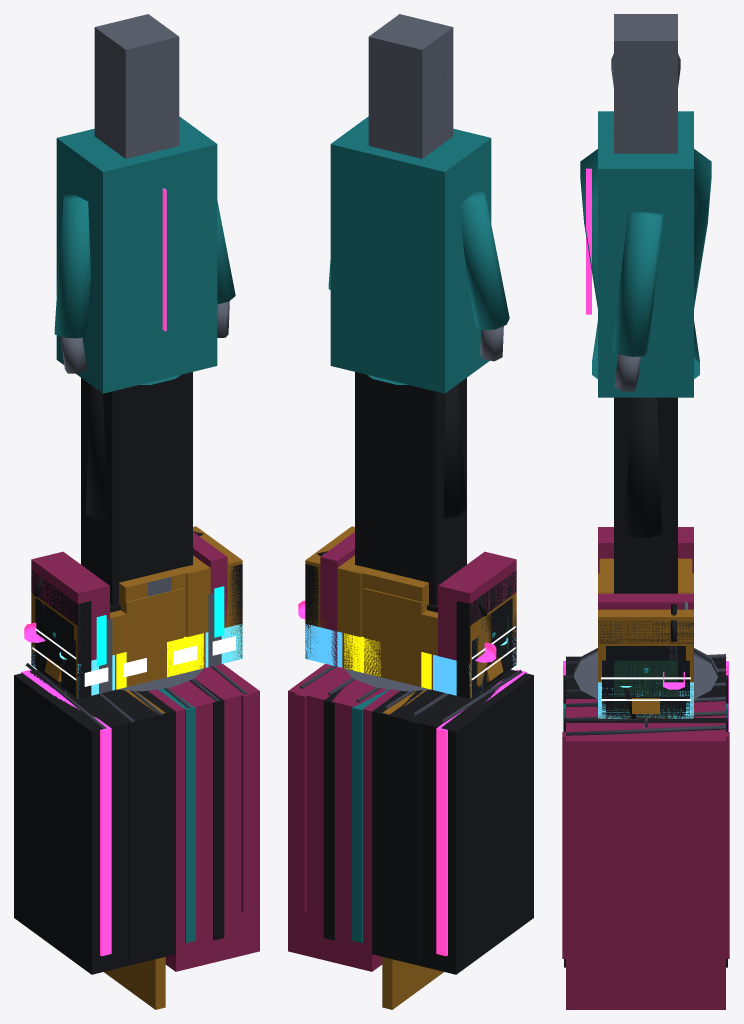
The model's file is room-detail-galeria-props.glb.
3 views of the same model, side by side, from view 1: azimuth 30°, elevation 25°; view 2: azimuth 150°, elevation 25°; view 3: azimuth 270°, elevation 25° (orthographic). The views are drawn at different scales.
Parts seen in each view (by area): view 1: rd-gl-mannequin-lod, rd-gl-garments-lod, rd-gl-garments, rd-gl-mannequin, rd-gl-stock-lod, rd-gl-tattoo, rd-gl-tattoo-lod, rd-gl-stock-b, rd-gl-tattoo-b, rd-gl-repair, rd-gl-vr-b, rd-gl-stock (+1 smaller); view 2: rd-gl-mannequin-lod, rd-gl-garments-lod, rd-gl-garments, rd-gl-mannequin, rd-gl-stock-lod, rd-gl-tattoo-lod, rd-gl-tattoo, rd-gl-tattoo-b, rd-gl-stock-b, rd-gl-repair, rd-gl-repair-b, rd-gl-stock (+1 smaller); view 3: rd-gl-garments-lod, rd-gl-mannequin-lod, rd-gl-mannequin, rd-gl-garments, rd-gl-stock-lod, rd-gl-stock-b, rd-gl-tattoo-b, rd-gl-arms, rd-gl-vr, rd-gl-stock, rd-gl-implants-b, rd-gl-tattoo (+4 smaller).
Part boxes in pixels (<box>): rd-gl-mannequin-lod: <box>56,14,217,605</box>; rd-gl-garments-lod: <box>14,663,259,974</box>; rd-gl-garments: <box>21,663,253,1009</box>; rd-gl-mannequin: <box>54,71,235,691</box>; rd-gl-stock-lod: <box>119,526,242,686</box>; rd-gl-tattoo: <box>31,551,109,698</box>; rd-gl-tattoo-lod: <box>31,551,109,687</box>; rd-gl-stock-b: <box>31,566,192,698</box>; rd-gl-tattoo-b: <box>193,532,242,659</box>; rd-gl-repair: <box>167,623,242,677</box>; rd-gl-vr-b: <box>35,598,73,695</box>; rd-gl-stock: <box>32,569,221,697</box>; rd-gl-mannequin-lod: <box>330,14,491,605</box>; rd-gl-garments-lod: <box>288,663,533,974</box>; rd-gl-garments: <box>294,665,526,1009</box>; rd-gl-mannequin: <box>328,71,509,691</box>; rd-gl-stock-lod: <box>305,526,428,686</box>; rd-gl-tattoo-lod: <box>438,551,516,693</box>; rd-gl-tattoo: <box>438,551,516,698</box>; rd-gl-tattoo-b: <box>305,532,354,666</box>; rd-gl-stock-b: <box>355,566,516,698</box>; rd-gl-repair: <box>305,624,380,676</box>; rd-gl-repair-b: <box>421,631,516,695</box>; rd-gl-stock: <box>365,569,515,697</box>; rd-gl-garments-lod: <box>566,656,725,1009</box>; rd-gl-mannequin-lod: <box>598,14,693,593</box>; rd-gl-mannequin: <box>574,54,717,699</box>; rd-gl-garments: <box>562,654,729,967</box>; rd-gl-stock-lod: <box>598,573,693,717</box>; rd-gl-stock-b: <box>599,563,692,718</box>; rd-gl-tattoo-b: <box>598,593,693,718</box>; rd-gl-arms: <box>614,660,677,718</box>; rd-gl-vr: <box>606,646,685,718</box>; rd-gl-stock: <box>598,558,693,718</box>; rd-gl-implants-b: <box>606,697,685,718</box>; rd-gl-tattoo: <box>598,534,693,573</box>.
Size of the model in its own units: 0.5754 by 2.69 by 0.4184.
Materials: 1 (1 with a texture image).
